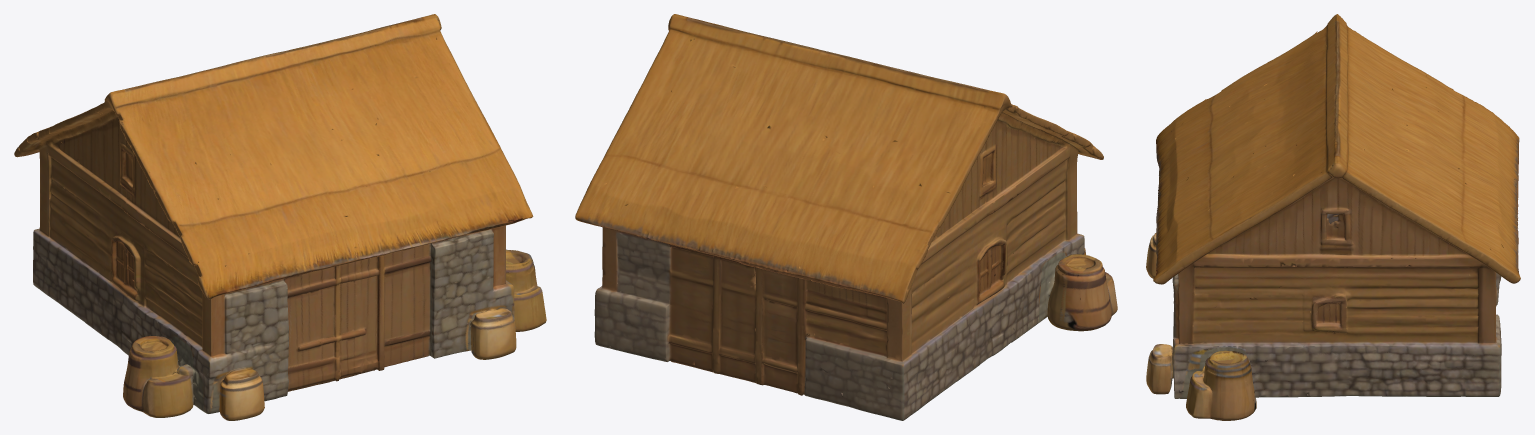
File: Rustic_Warehouse_0722220916_texture.fbx
3 renders of one model, left to right at view 1: azimuth 30°, elevation 25°; view 2: azimuth 150°, elevation 25°; view 3: azimuth 270°, elevation 25°, orthographic. The views are drawn at different scales.
Visible parts, largest first — view 1: Mesh_0; view 2: Mesh_0; view 3: Mesh_0.
Boxes of the visible parts, left/top/right/bottom form: Mesh_0: left=14, top=14, right=546, bottom=420; Mesh_0: left=575, top=14, right=1117, bottom=420; Mesh_0: left=1146, top=14, right=1520, bottom=420.
Bounding box in the file's own units: 200 × 123 × 171.
Materials: 1 (1 with a texture image).
